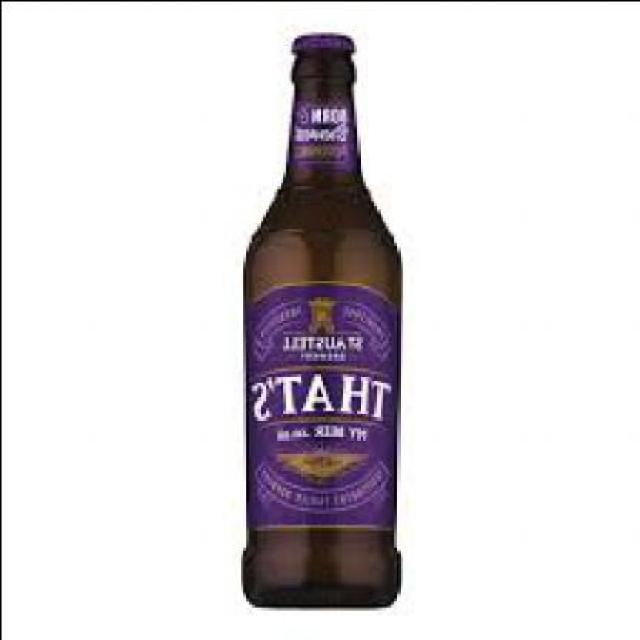GLASS: (239, 46, 404, 603)
METAL: (296, 28, 358, 48)
